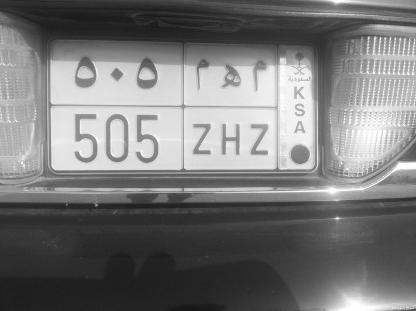license plate: (40, 29, 326, 178)
